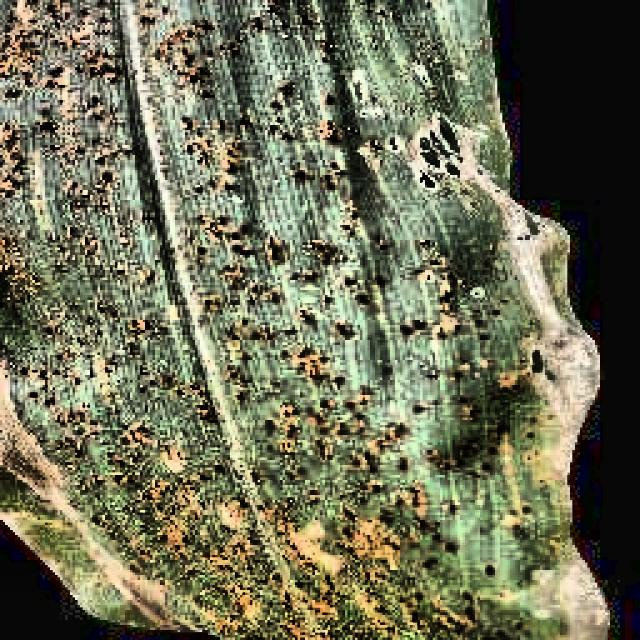common_rust: (5, 0, 516, 640)
